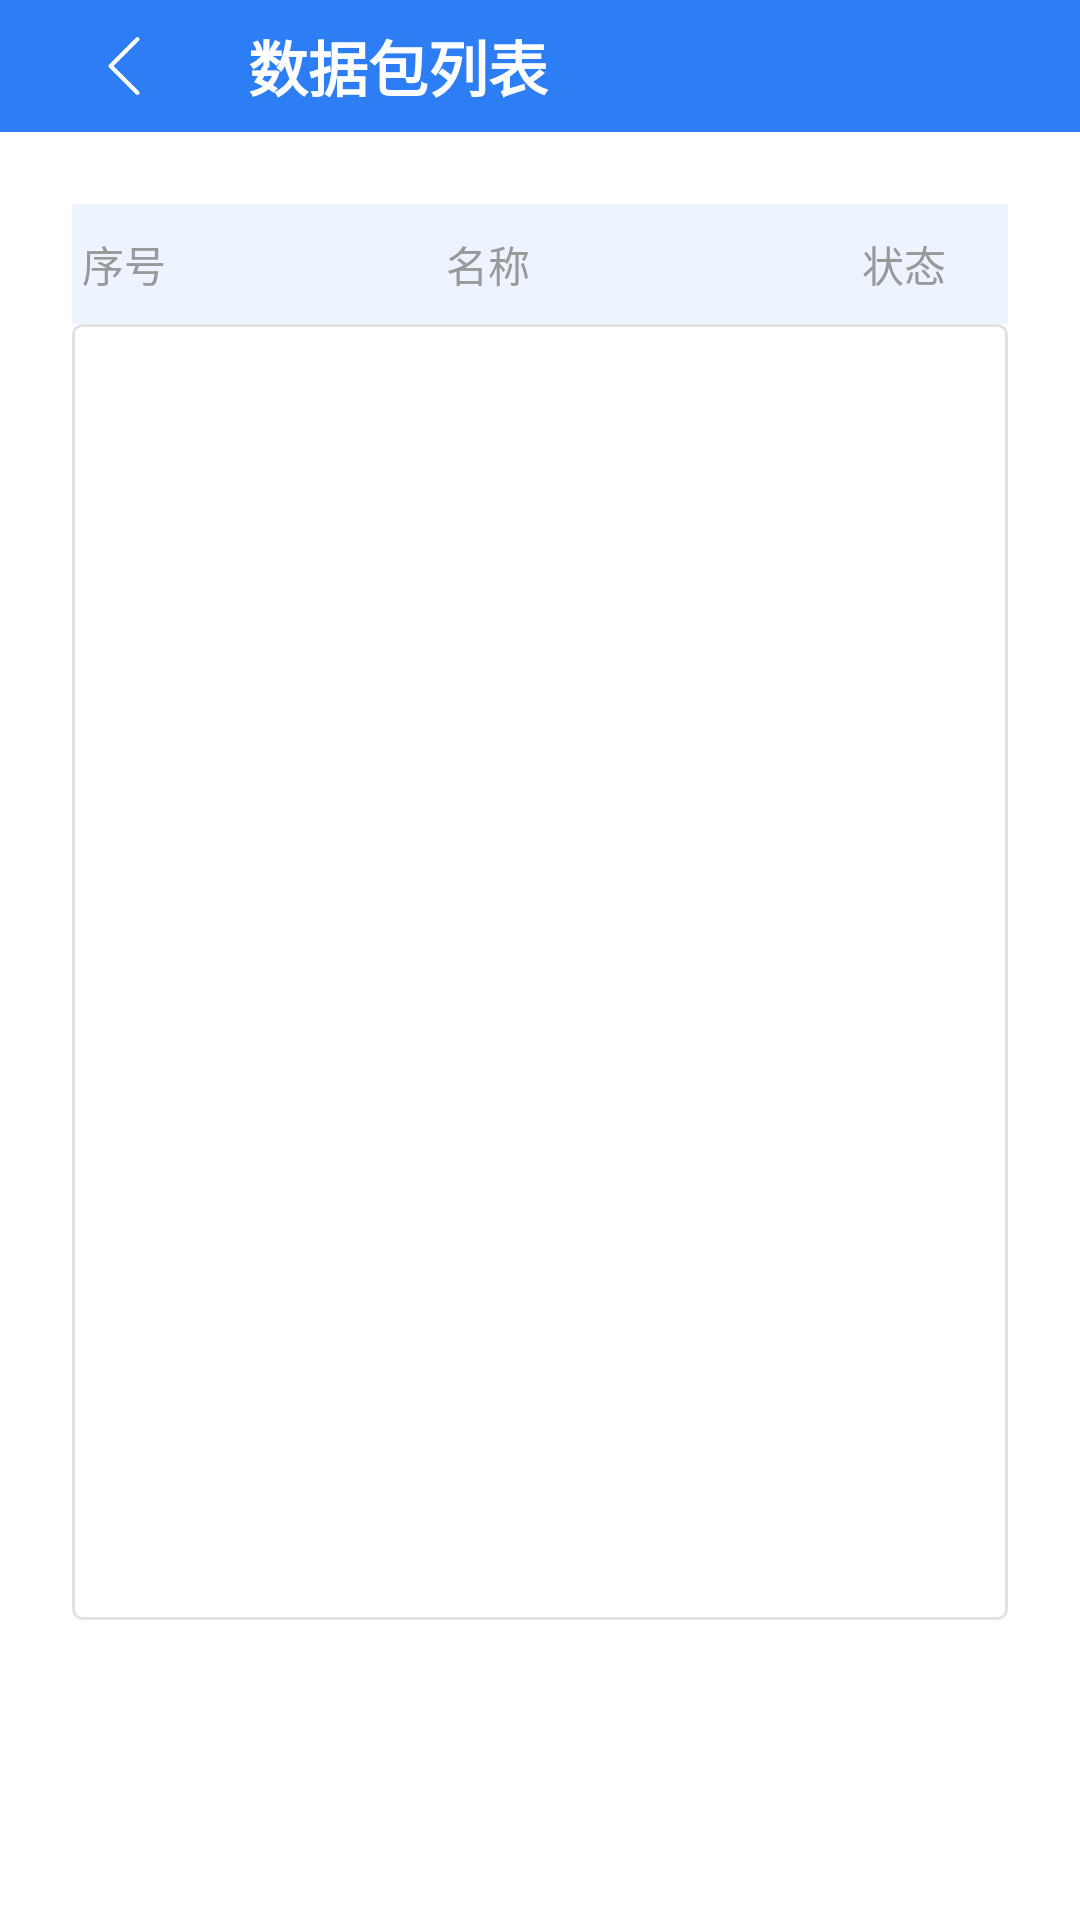

Icons on this 1080px x 1920px Android screen, each with its box as [left=x1, top=y1, right=x2, bottom=y2]:
left: [left=108, top=37, right=140, bottom=95]
